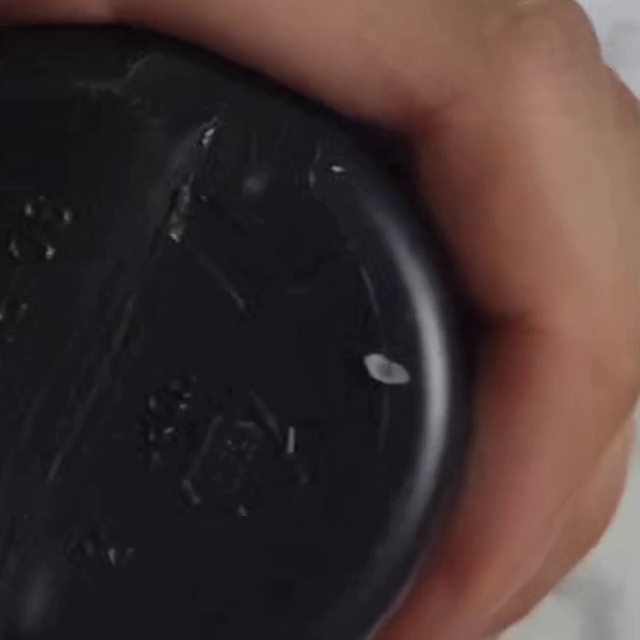Plastic: (176, 392, 308, 517)
